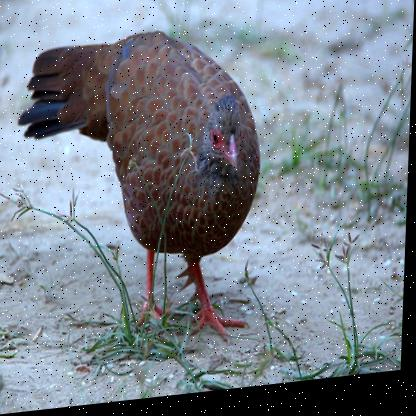Burung: (15, 21, 267, 363)
